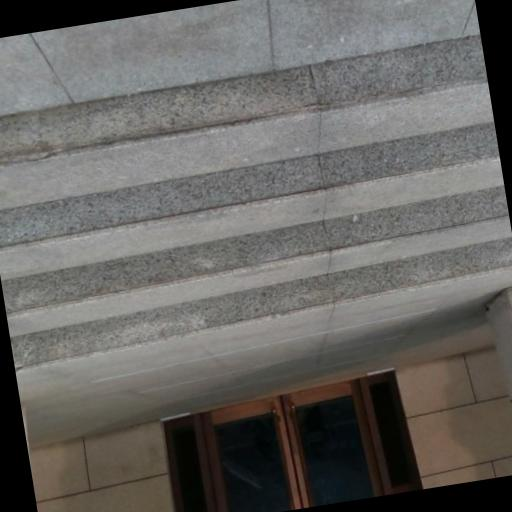stairs: (0, 36, 511, 369)
